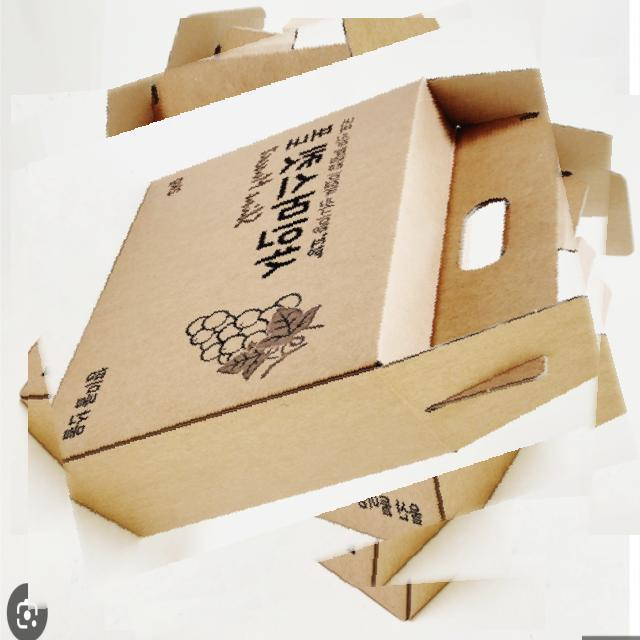biodegradable: (28, 18, 622, 612)
